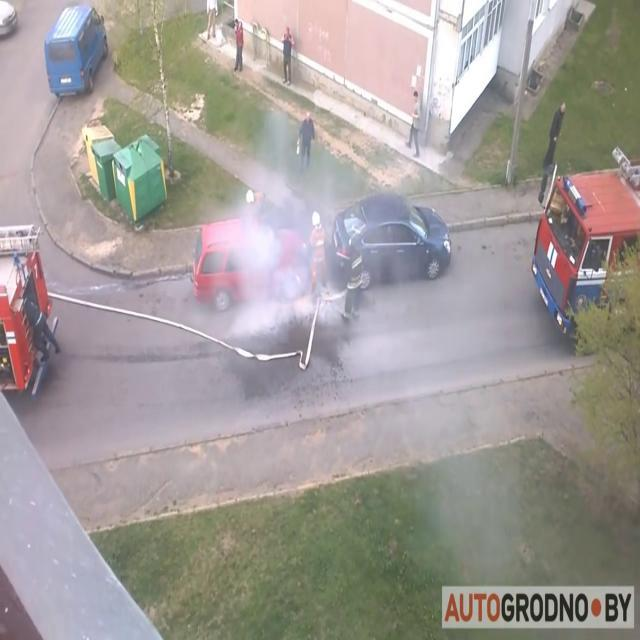Smoke: (203, 78, 409, 362)
